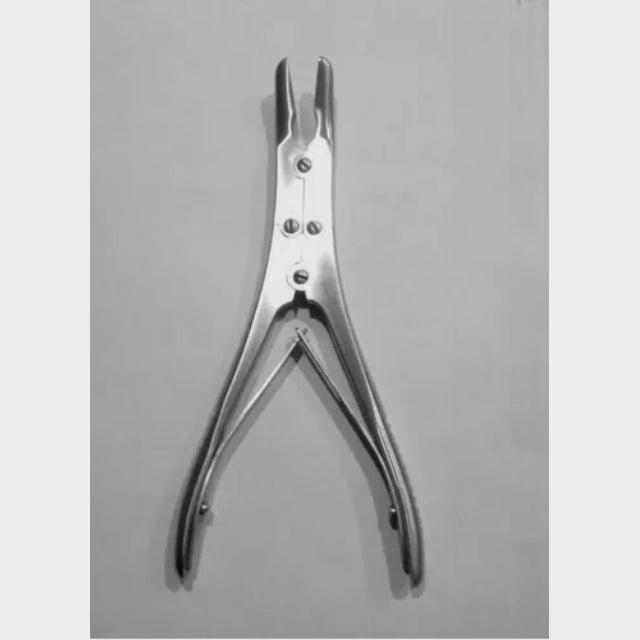gubia: (163, 57, 425, 600)
